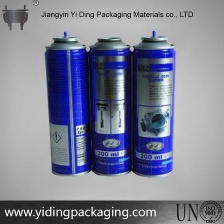aerosol_cans: (40, 28, 95, 179), (128, 26, 177, 181), (83, 32, 134, 177)
